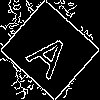A: (25, 24, 81, 81)
